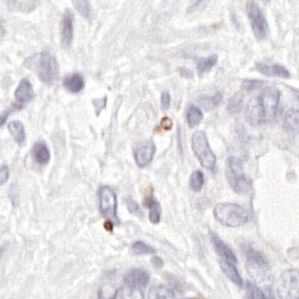Lymphocyte: (155, 113, 174, 130)
